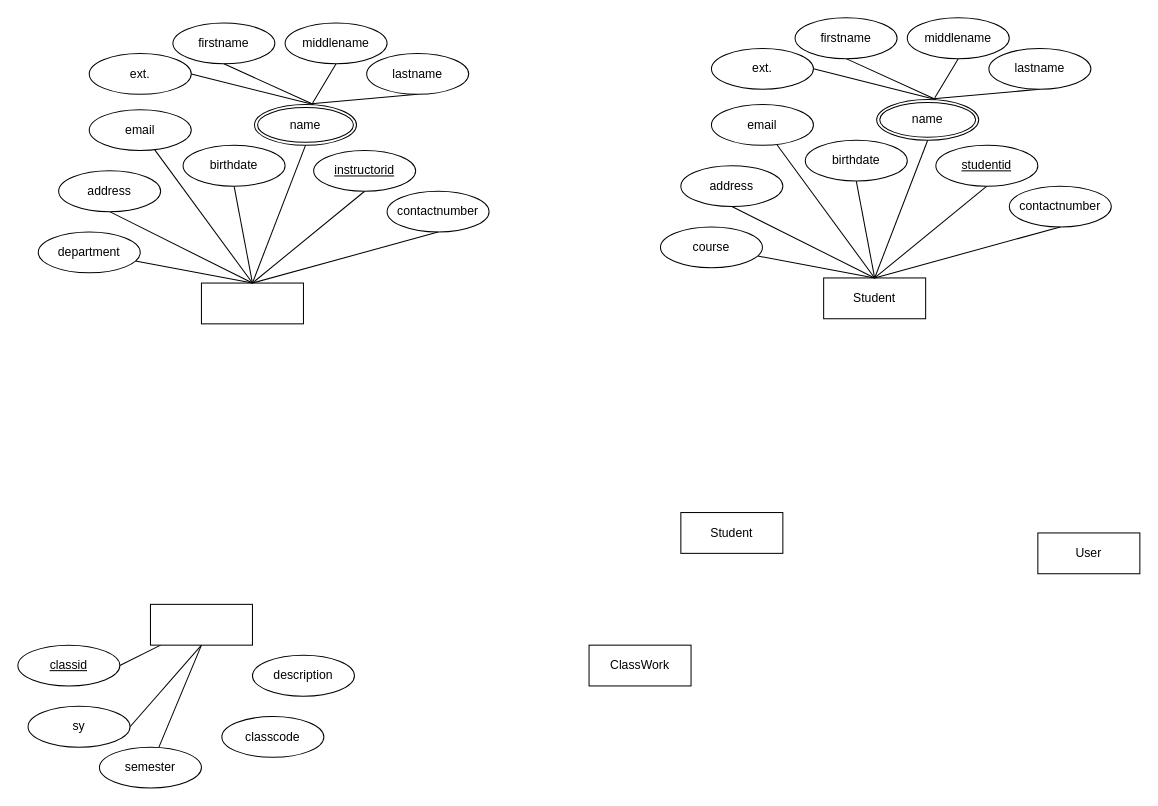
Image size: 1158x806. Some labels were removed from this diagram. The shapes that lost their labels are listed below. From the top down, each one's centre as x and y in pixels, then its label:
At [251,303]: "Instructor".
At [200,624]: "Class".
